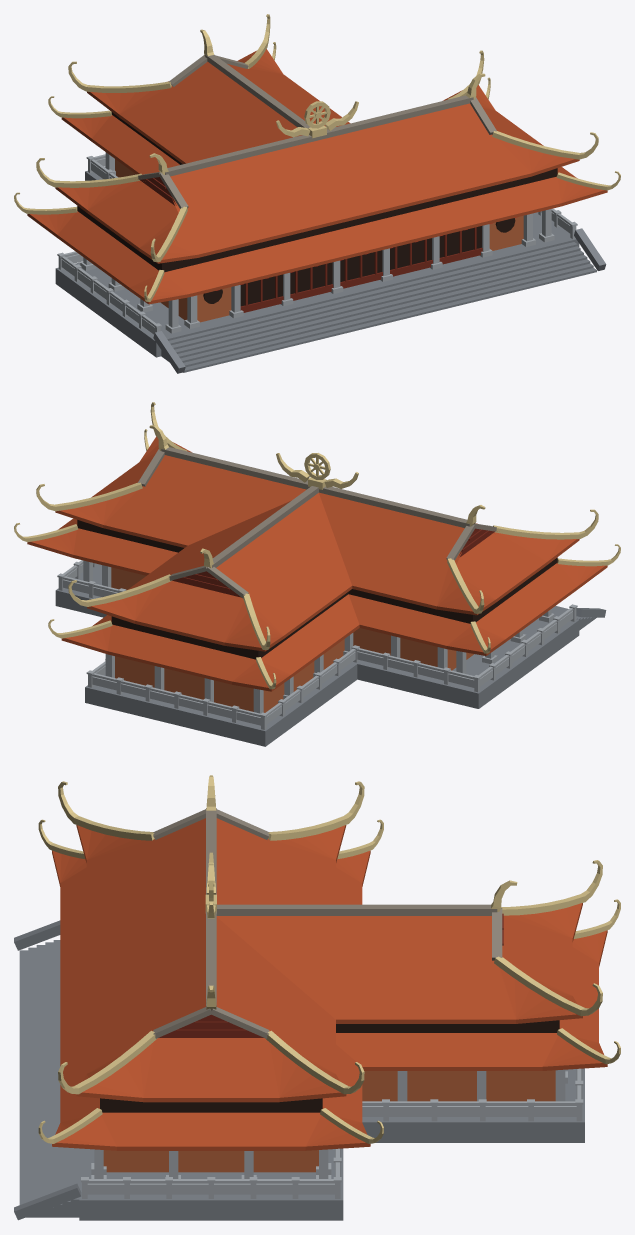
File: chanh_dien.glb
3 renders of one model, top to bottom at view 1: azimuth 30°, elevation 25°; view 2: azimuth 150°, elevation 25°; view 3: azimuth 270°, elevation 25°, orthographic. The views are drawn at different scales.
Visible parts, largest first — view 1: Mai_Tren, Nen_Da, Mai_Duoi, Bo_Noc, Dau_Dao, Cua_Toi, Cot_Da, Go_Toi, Go_Do, Lan_Can, Tuong_Gach, Banh_Xe_Phap (+1 smaller); view 2: Mai_Tren, Mai_Duoi, Nen_Da, Lan_Can, Tuong_Gach, Dau_Dao, Bo_Noc, Go_Toi, Cot_Da, Banh_Xe_Phap, Tam_Giac, Dau_Kim_Noc; view 3: Mai_Tren, Mai_Duoi, Nen_Da, Dau_Dao, Tuong_Gach, Lan_Can, Bo_Noc, Go_Toi, Cot_Da, Tam_Giac, Dau_Kim_Noc.
Part boxes in pixels (x1=…): Mai_Tren: x1=55, y1=49, x2=579, y2=263; Nen_Da: x1=55, y1=166, x2=606, y2=373; Mai_Duoi: x1=27, y1=115, x2=607, y2=304; Bo_Noc: x1=138, y1=54, x2=496, y2=208; Dau_Dao: x1=14, y1=14, x2=620, y2=301; Cua_Toi: x1=240, y1=226, x2=481, y2=306; Cot_Da: x1=80, y1=152, x2=554, y2=333; Go_Toi: x1=77, y1=112, x2=557, y2=272; Go_Do: x1=240, y1=227, x2=482, y2=312; Lan_Can: x1=57, y1=154, x2=577, y2=334; Tuong_Gach: x1=115, y1=159, x2=523, y2=322; Banh_Xe_Phap: x1=276, y1=101, x2=358, y2=138; Mai_Tren: x1=55, y1=436, x2=579, y2=651; Mai_Duoi: x1=27, y1=518, x2=607, y2=691; Nen_Da: x1=55, y1=564, x2=606, y2=746; Lan_Can: x1=57, y1=560, x2=577, y2=729; Tuong_Gach: x1=111, y1=567, x2=474, y2=712; Dau_Dao: x1=14, y1=402, x2=620, y2=689; Bo_Noc: x1=138, y1=447, x2=496, y2=598; Go_Toi: x1=77, y1=520, x2=557, y2=659; Cot_Da: x1=83, y1=560, x2=554, y2=713; Banh_Xe_Phap: x1=276, y1=453, x2=358, y2=489; Tam_Giac: x1=142, y1=486, x2=494, y2=597; Dau_Kim_Noc: x1=149, y1=425, x2=485, y2=568; Mai_Tren: x1=76, y1=818, x2=582, y2=1102; Mai_Duoi: x1=52, y1=850, x2=607, y2=1150; Nen_Da: x1=14, y1=920, x2=584, y2=1220; Dau_Dao: x1=38, y1=781, x2=620, y2=1143; Tuong_Gach: x1=103, y1=1070, x2=555, y2=1172; Lan_Can: x1=81, y1=1068, x2=583, y2=1198; Bo_Noc: x1=153, y1=808, x2=502, y2=1038; Go_Toi: x1=100, y1=1020, x2=559, y2=1112; Cot_Da: x1=91, y1=1069, x2=567, y2=1178; Tam_Giac: x1=158, y1=913, x2=503, y2=1037; Dau_Kim_Noc: x1=206, y1=775, x2=517, y2=1009.
Bounding box in the file's own units: 38.31 × 12.85 × 32.16.
